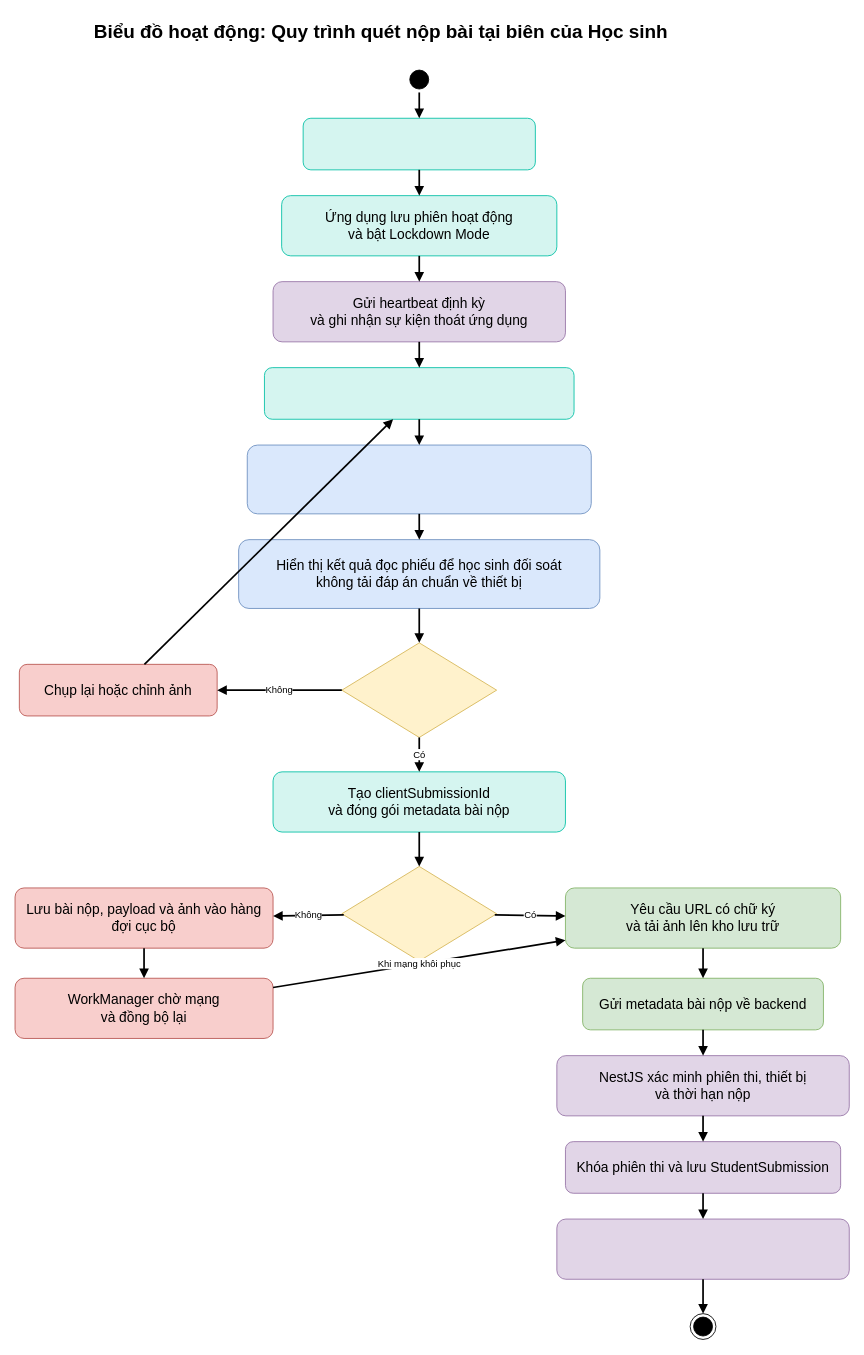
Some shapes in this 864 by 1355 pixel diagram are drawn without their labels. The shapes that lost their labels are listed below. From the top down, each one's box as (x1, y1, x2, y2) in pixels, then its label:
(302, 117, 535, 170): Học sinh bắt đầu phiên thi
(264, 367, 574, 419): Học sinh chụp hoặc chọn ảnh phiếu trả lời
(246, 444, 591, 514): Xử lý OMR trên thiết bị nắn phẳng hình học và trích xuất lựa chọn đã tô
(341, 642, 497, 737): Học sinh xác nhận?
(341, 866, 497, 961): Có kết nối mạng?
(556, 1218, 849, 1279): Chấm điểm theo đáp án của mã đề và lưu kết quả chính thức
